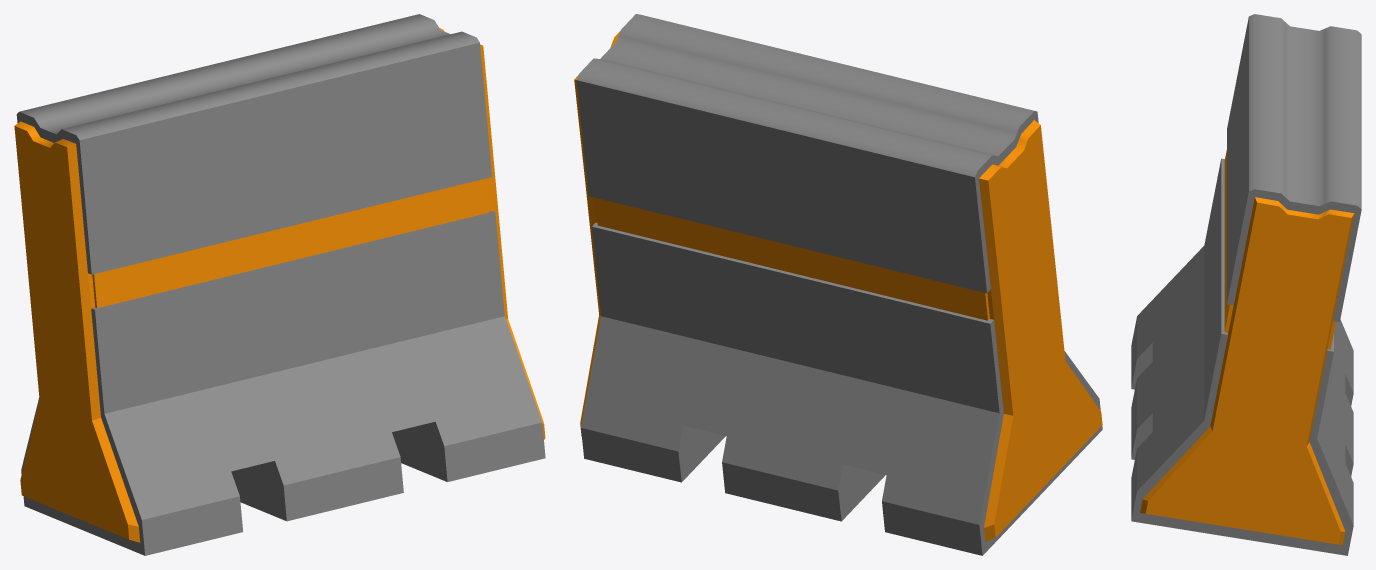
File: Muro.fbx
The picture shows the model from 3 angles, left to right: view 1: azimuth 30°, elevation 25°; view 2: azimuth 150°, elevation 25°; view 3: azimuth 270°, elevation 25°; orthographic projection. The views are drawn at different scales.
Visible parts, largest first — view 1: Muro cemento; view 2: Muro cemento; view 3: Muro cemento.
Boxes of the visible parts, <box> form: Muro cemento: <box>14,14,545,555</box>; Muro cemento: <box>574,14,1102,555</box>; Muro cemento: <box>1131,14,1361,555</box>.
Bounding box in the file's own units: 208 × 195 × 111.
